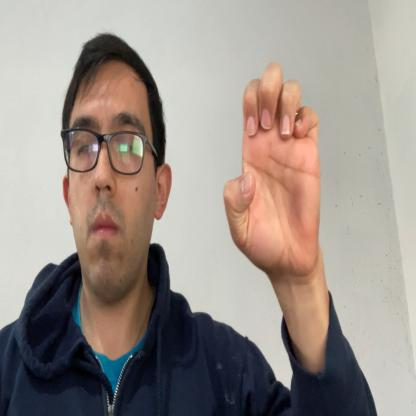E: (223, 60, 321, 270)
